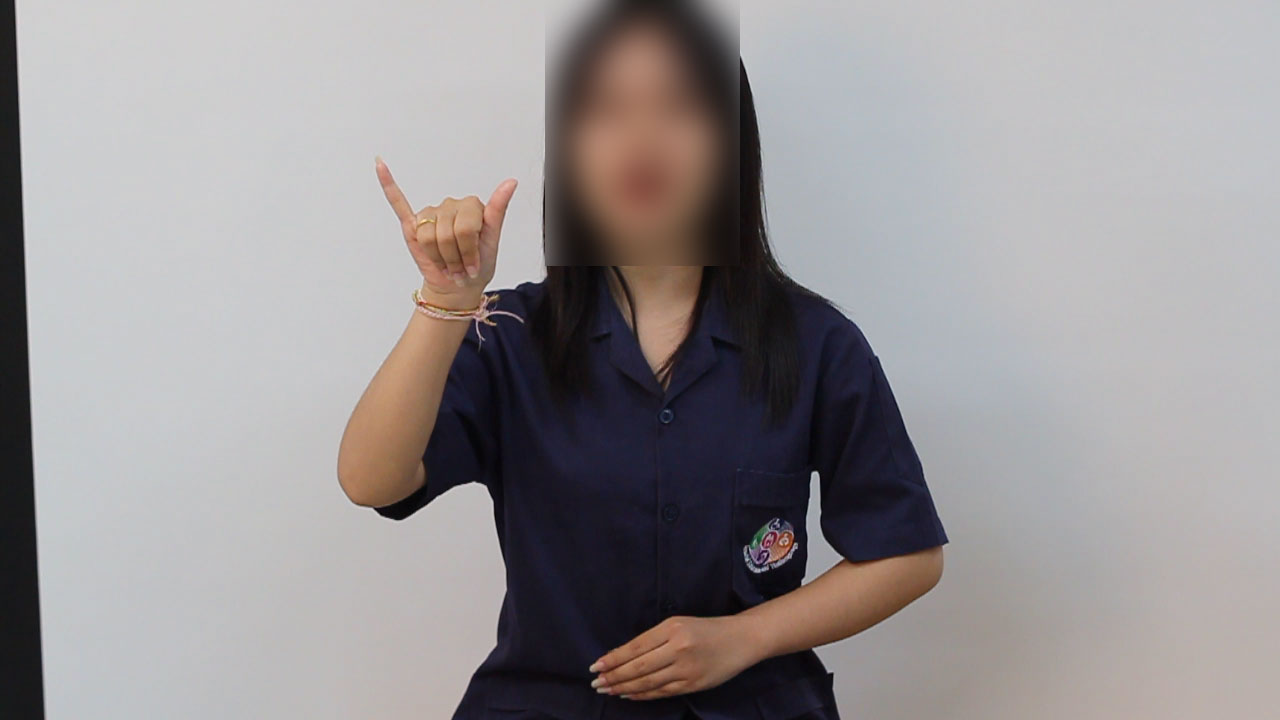yor: (364, 155, 522, 302)
